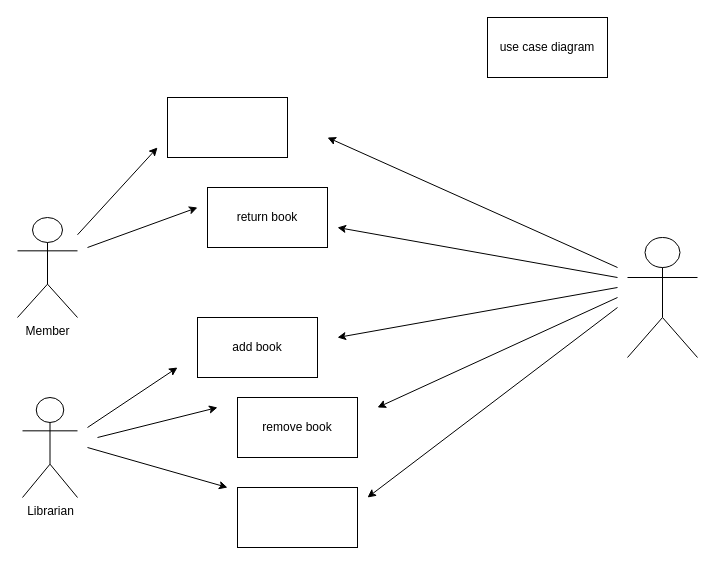
The diagram is 715 pixels wide and 565 high, and some of its shapes have lost their labels. The centre of each missing label's shape, as x and y in pixels:
"issue book" belongs at (x=227, y=127).
"remove book_item from catalog" belongs at (x=297, y=517).
"system" belongs at (x=662, y=297).
